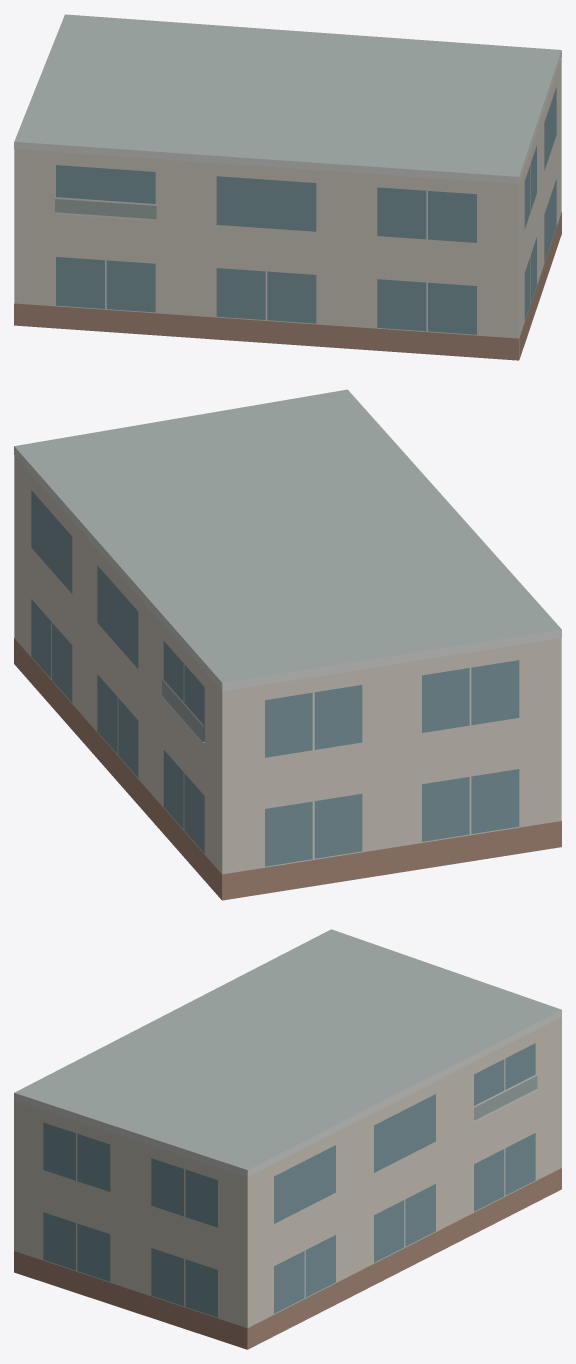
Rendered from survey-upis-32842083.glb.
The picture shows the model from 3 angles, top to bottom: view 1: azimuth 30°, elevation 25°; view 2: azimuth 150°, elevation 25°; view 3: azimuth 270°, elevation 25°; orthographic projection. The views are drawn at different scales.
Visible parts, largest first — view 1: survey-upis-32842083.tmp; view 2: survey-upis-32842083.tmp; view 3: survey-upis-32842083.tmp.
Part boxes in pixels (x1,y1,x2,y2): survey-upis-32842083.tmp: [14, 14, 561, 360]; survey-upis-32842083.tmp: [14, 389, 561, 900]; survey-upis-32842083.tmp: [14, 929, 561, 1349].
Size of the model in its own units: 17.55 by 6.1 by 16.87.
